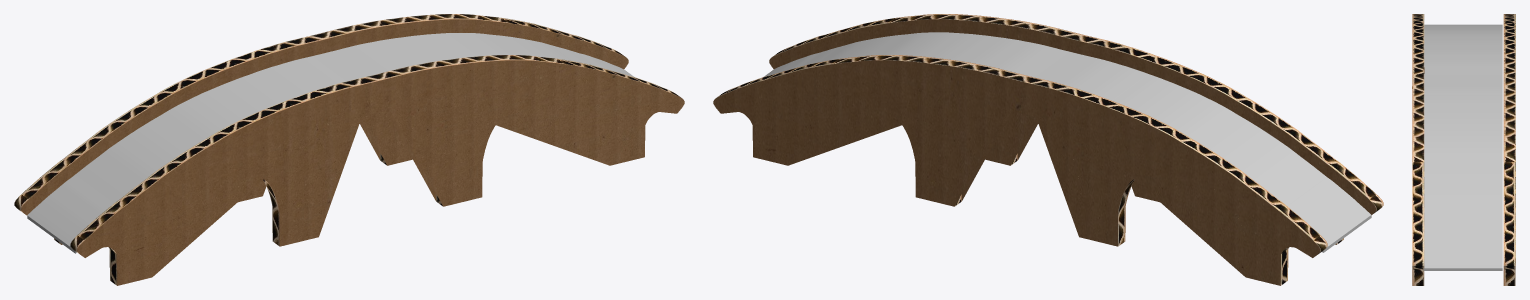
The model's file is bridgeWhole.fbx.
3 renders of one model, left to right at view 1: azimuth 30°, elevation 25°; view 2: azimuth 150°, elevation 25°; view 3: azimuth 270°, elevation 25°, orthographic. The views are drawn at different scales.
Parts seen in each view (by area): view 1: bridge; view 2: bridge; view 3: bridge.
Boxes of the visible parts, x1,y1,x2,y2 form: bridge: [14, 14, 684, 285]; bridge: [713, 14, 1383, 285]; bridge: [1412, 14, 1515, 285].
Size of the model in its own units: 998 by 223 by 181.
